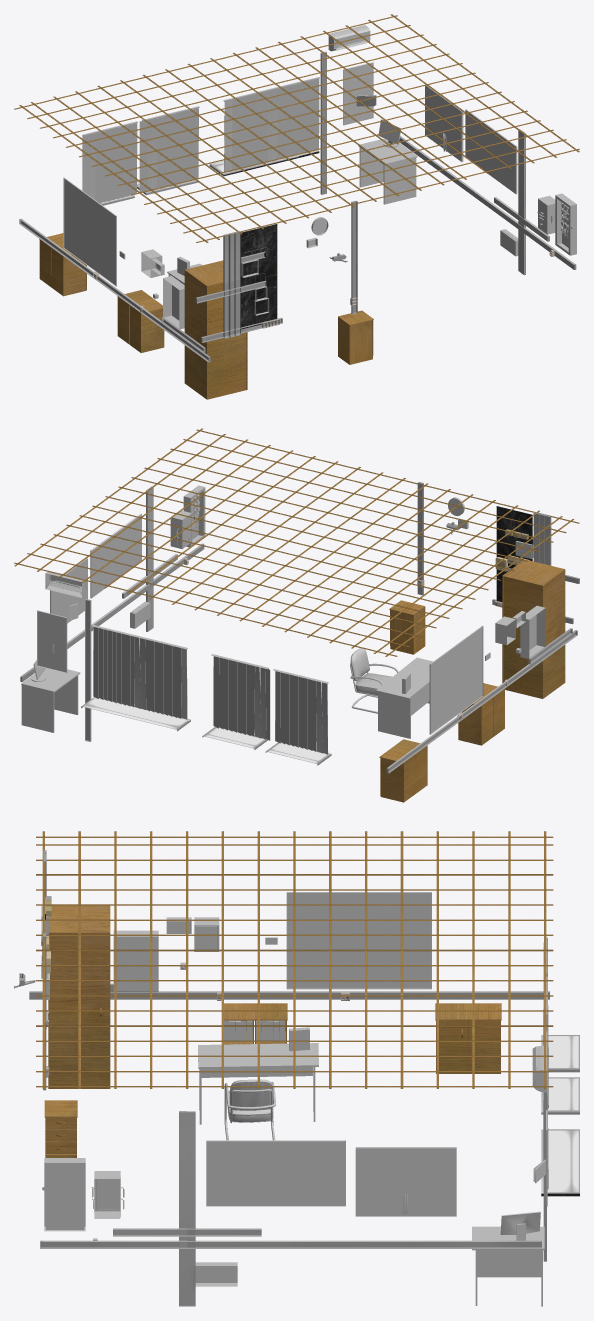
File: dsp_room.fbx
3 renders of one model, top to bottom at view 1: azimuth 30°, elevation 25°; view 2: azimuth 150°, elevation 25°; view 3: azimuth 270°, elevation 25°, orthographic. The views are drawn at different scales.
Visible parts, largest first — view 1: wood, shtor, plastic, metal, security003, wood_table, billboard_poz_right, billboard_table_right, billboard_window_right, lock, vento_control; view 2: wood, shtor, plastic, metal, security003, wood_table, wood_table001, billboard_poz_right, billboard_window_right, chair, vento_control, billboard_table_right (+1 smaller); view 3: wood, plastic, security003, billboard_poz_right, billboard_table_right, metal, wood_table001, lock, wood_table, vento_control, chair, folders_deck_under (+1 smaller).
Part boxes in pixels (<box>): wood: <box>14,14,579,399</box>; shtor: <box>82,77,319,203</box>; plastic: <box>19,51,576,362</box>; metal: <box>63,25,555,315</box>; security003: <box>63,178,115,285</box>; wood_table: <box>358,138,417,204</box>; billboard_poz_right: <box>465,110,517,194</box>; billboard_table_right: <box>425,85,463,161</box>; billboard_window_right: <box>344,63,376,124</box>; lock: <box>551,193,576,255</box>; vento_control: <box>119,251,184,329</box>; wood: <box>14,428,579,802</box>; shtor: <box>91,624,328,754</box>; plastic: <box>20,482,579,773</box>; metal: <box>31,497,533,734</box>; security003: <box>430,626,483,733</box>; wood_table: <box>21,668,80,732</box>; wood_table001: <box>376,657,432,738</box>; billboard_poz_right: <box>90,514,141,597</box>; billboard_window_right: <box>37,611,66,672</box>; chair: <box>350,648,398,713</box>; vento_control: <box>485,605,545,660</box>; billboard_table_right: <box>50,559,87,622</box>; wood: <box>36,831,553,1157</box>; plastic: <box>14,850,579,1306</box>; security003: <box>287,893,431,988</box>; billboard_poz_right: <box>206,1140,344,1206</box>; billboard_table_right: <box>355,1147,455,1216</box>; metal: <box>41,892,547,1286</box>; wood_table001: <box>198,1043,318,1124</box>; lock: <box>42,1158,122,1231</box>; wood_table: <box>472,1226,544,1306</box>; vento_control: <box>113,930,277,990</box>; chair: <box>224,1079,275,1140</box>; folders_deck_under: <box>224,1020,309,1051</box>.
Bounding box in the file's own units: 7.07 × 2.88 × 6.57.
